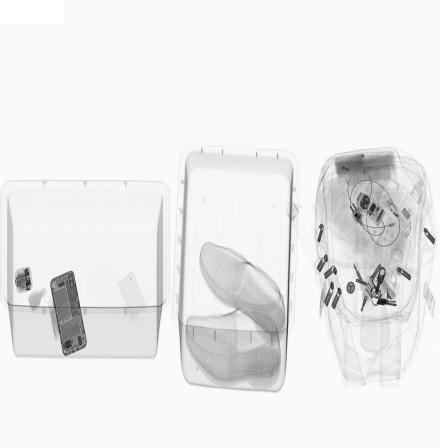Lighter: (385, 198, 411, 232)
